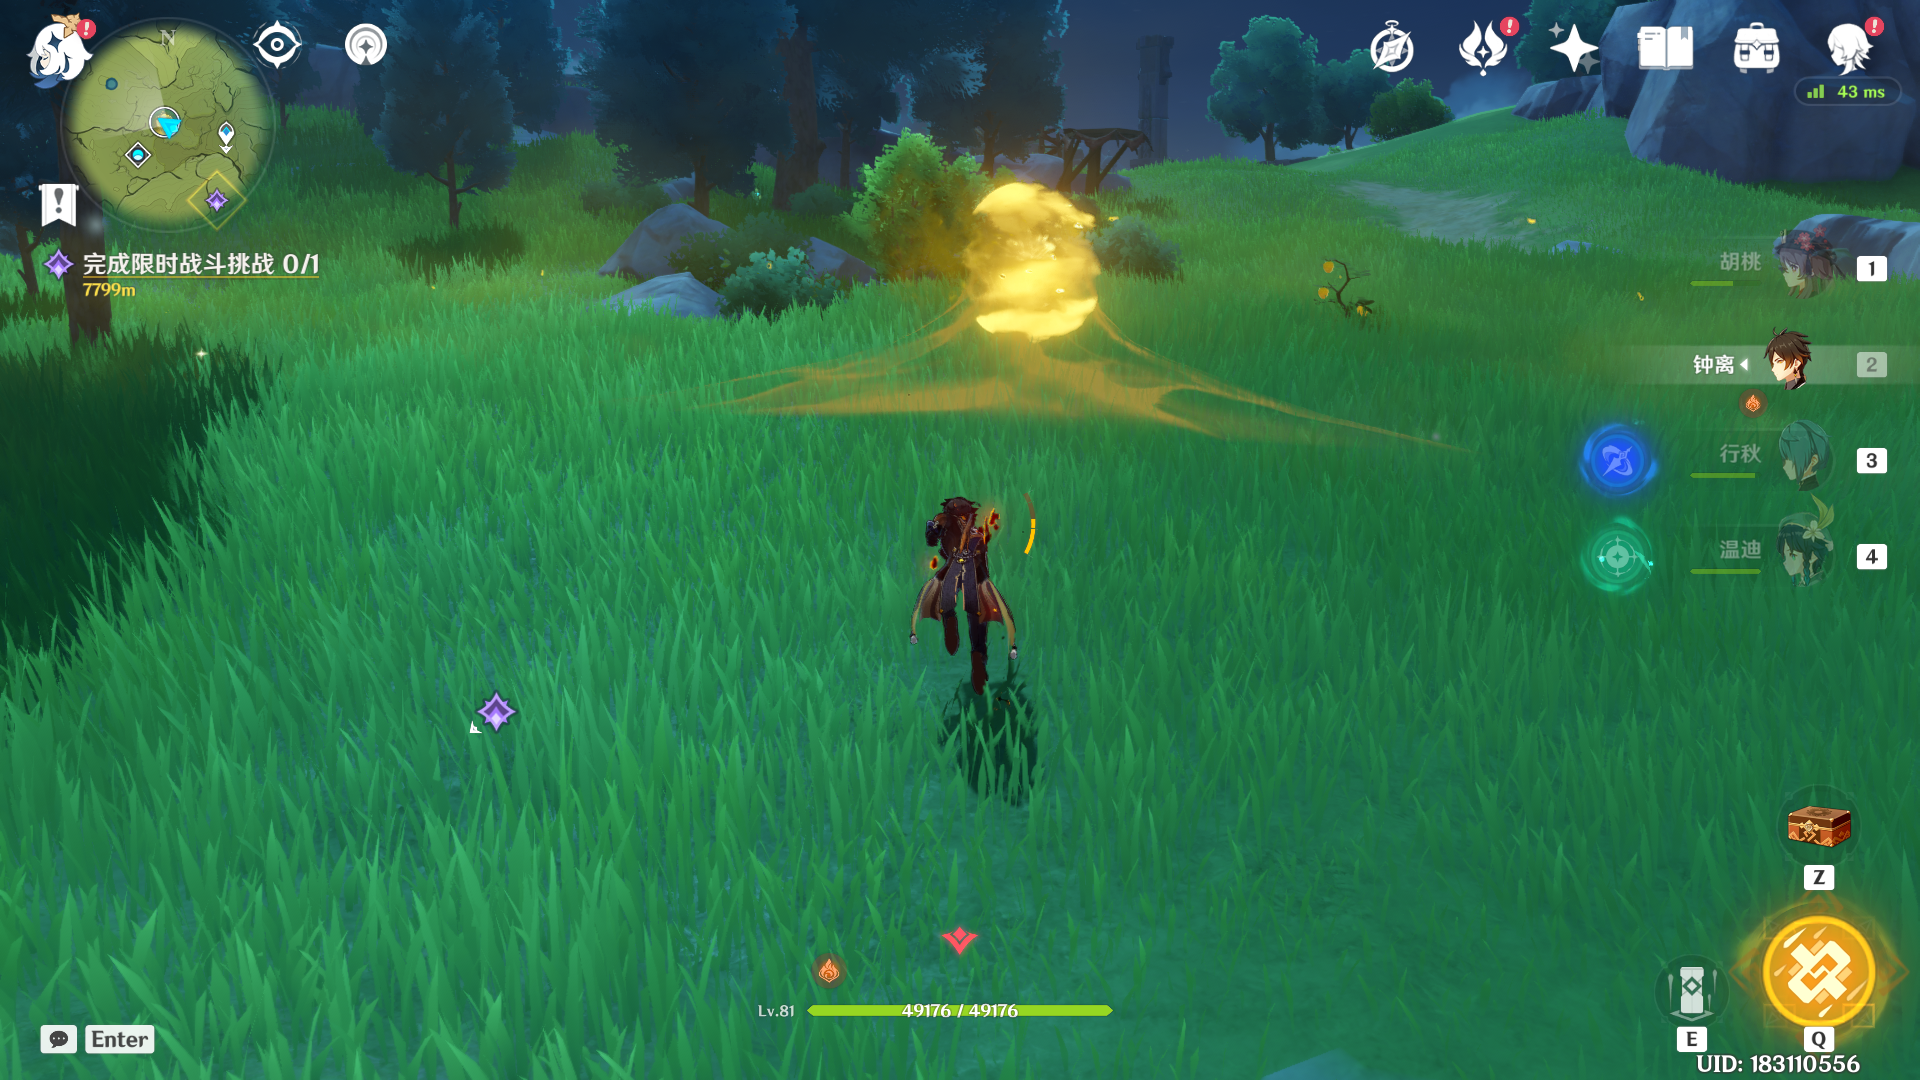character: (857, 455, 1102, 741)
